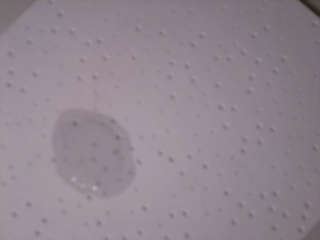Water_detected: (52, 121, 130, 187)
